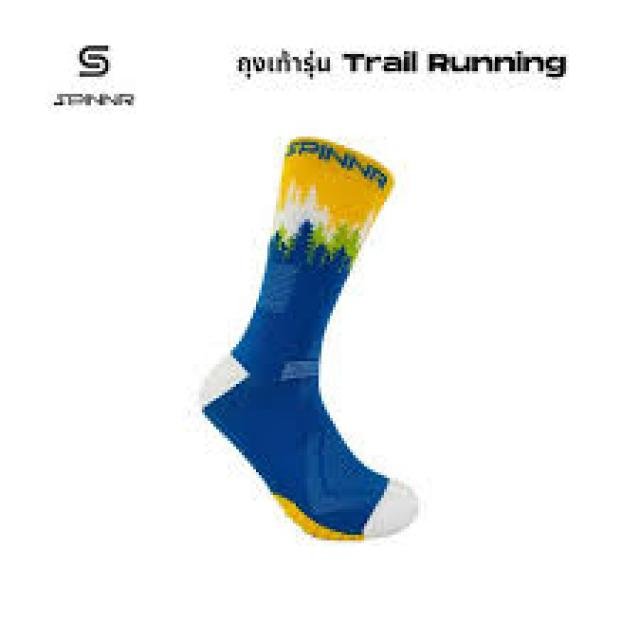sock: (199, 134, 418, 540)
